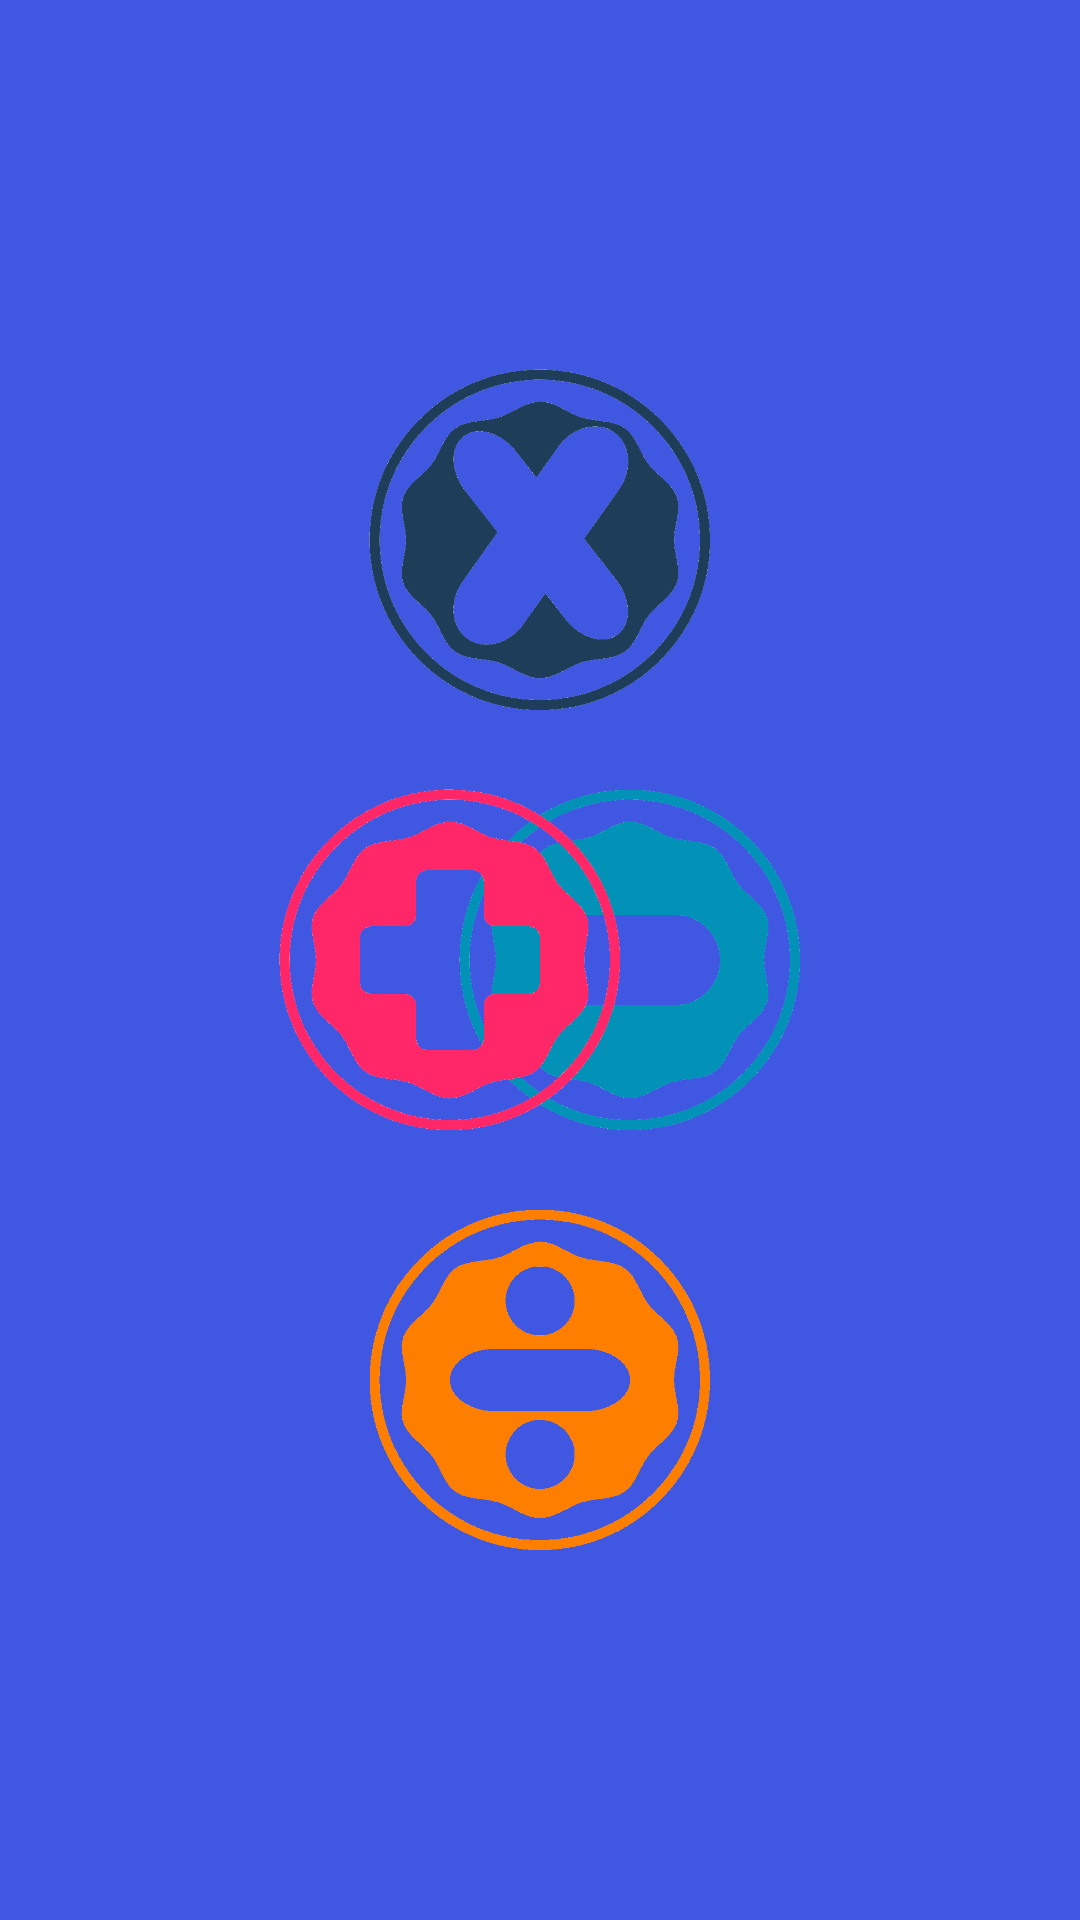

Where icons sit on this 1080×1920 app screen, as (x1, y1, x2, y2):
divide: (370, 1210, 710, 1550)
multiplication: (369, 369, 710, 710)
